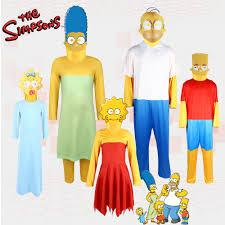Bart: (180, 46, 224, 168)
Homer: (118, 2, 186, 147)
Lisa: (89, 99, 139, 212)
Maggie: (5, 68, 58, 171)
Marge: (47, 3, 103, 190)
